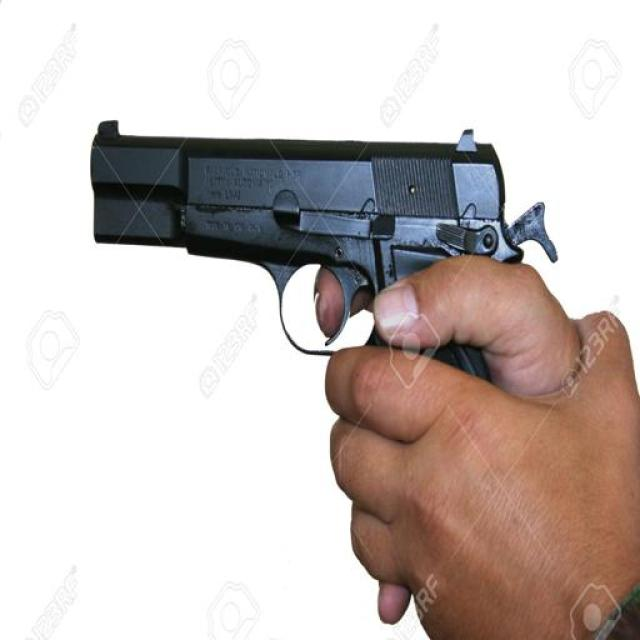pistol: (88, 120, 559, 407)
